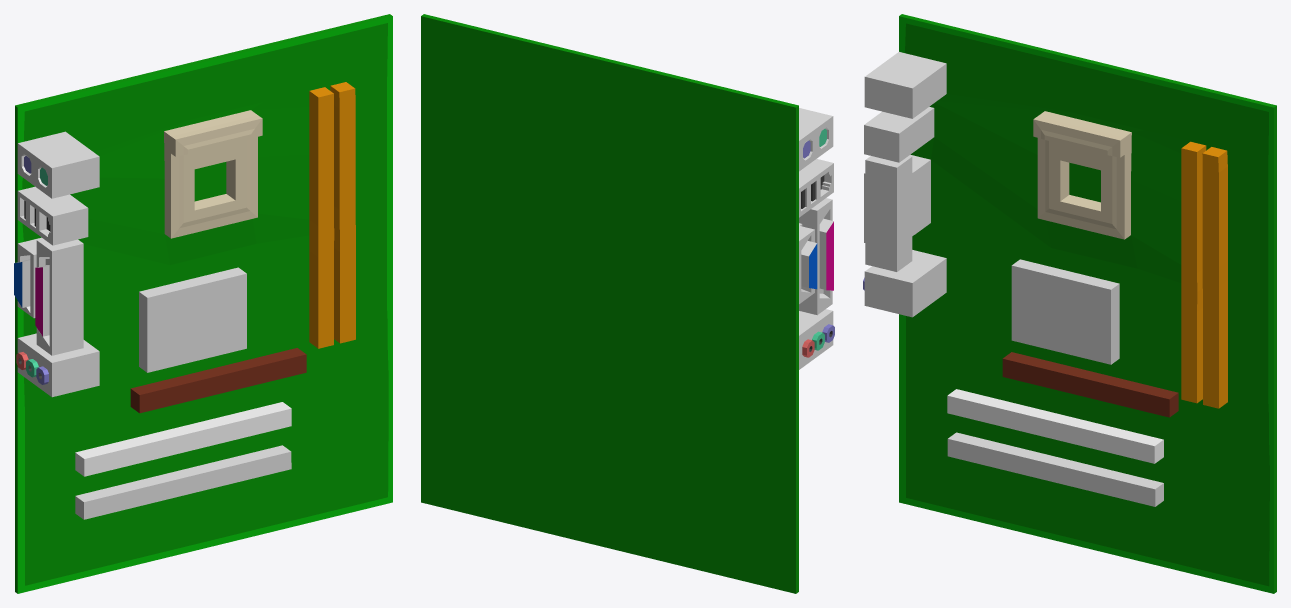
File: mobo_socket-A_1-amd.fbx
The picture shows the model from 3 angles, left to right: view 1: azimuth 30°, elevation 25°; view 2: azimuth 150°, elevation 25°; view 3: azimuth 330°, elevation 25°; orthographic projection.
Parts seen in each view (by area): view 1: Plane; view 2: Plane; view 3: Plane.
Boxes of the visible parts, x1,y1,x2,y2 form: Plane: [14, 14, 392, 593]; Plane: [421, 14, 834, 593]; Plane: [863, 14, 1276, 593].
Size of the model in its own units: 160 by 195 by 27.57.
